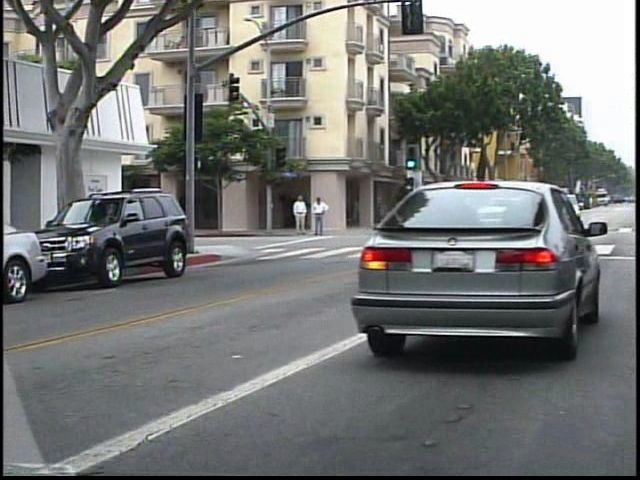person: (306, 193, 326, 238), (289, 192, 307, 237)
